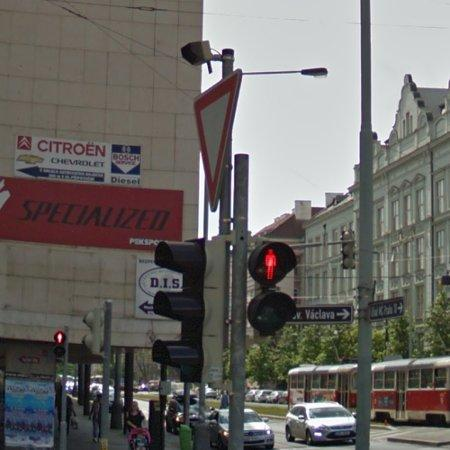traffic lights: (152, 238, 226, 382), (246, 242, 299, 333)
